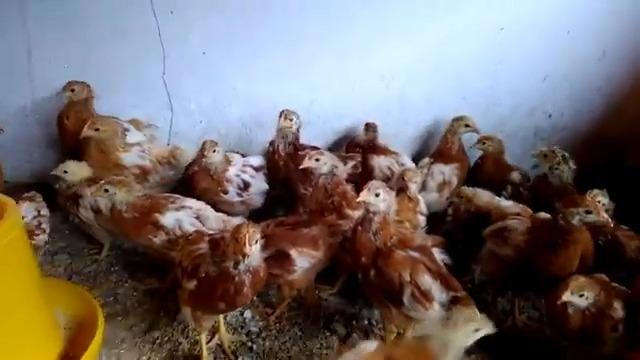Normal: (162, 223, 284, 360)
